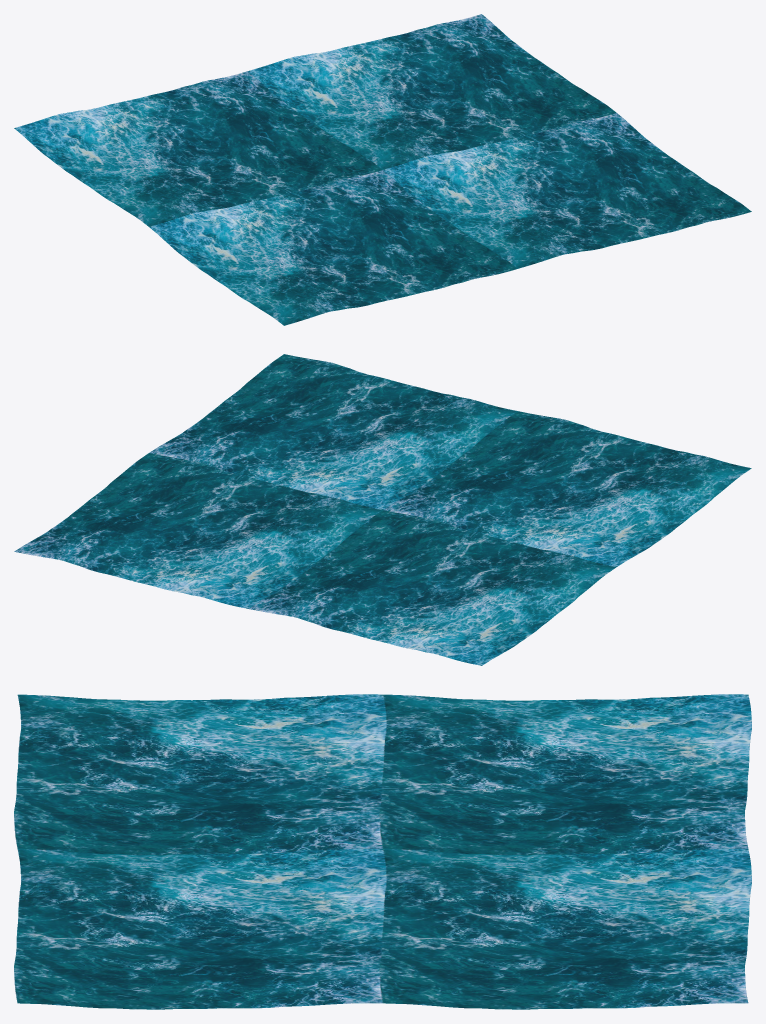
Rendered from water.obj.
3 views of the same model, one above another, from view 1: azimuth 30°, elevation 25°; view 2: azimuth 150°, elevation 25°; view 3: azimuth 270°, elevation 25° (orthographic). The views are drawn at different scales.
Visible parts, largest first — view 1: Plane.001; view 2: Plane.001; view 3: Plane.001.
Boxes of the visible parts, x1=… form: Plane.001: x1=14, y1=14, x2=751, y2=325; Plane.001: x1=14, y1=354, x2=751, y2=665; Plane.001: x1=14, y1=694, x2=751, y2=1009.
Size of the model in its own units: 10442 by 186 by 10473.
1 material, 1 textured.
